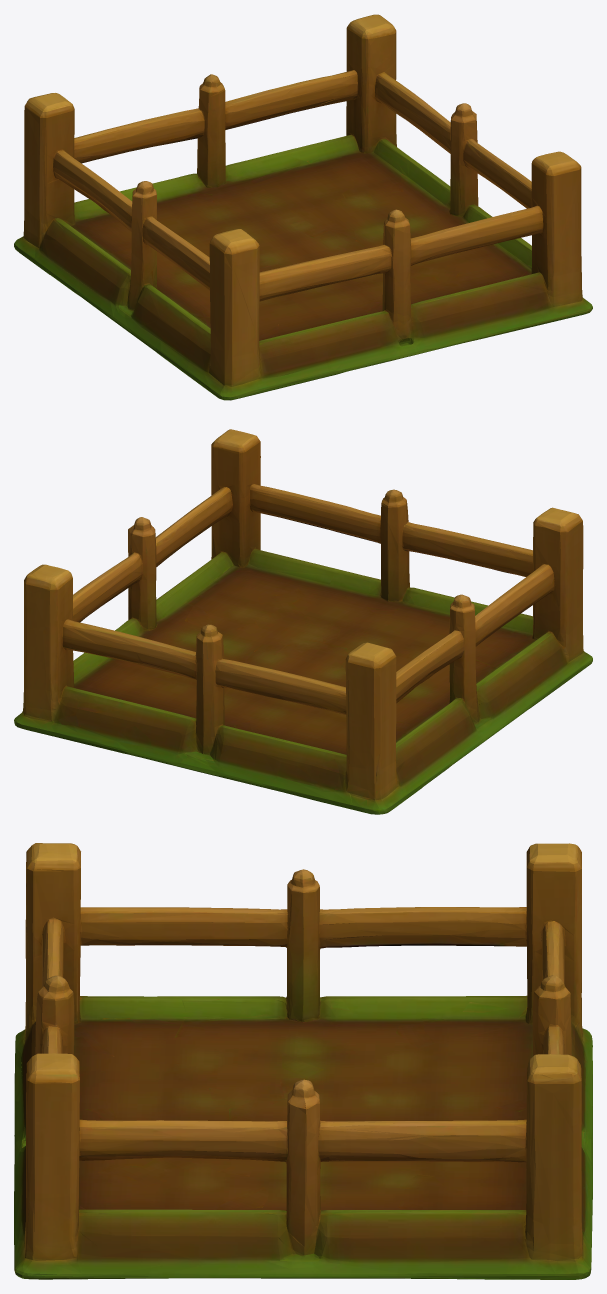
File: empty_farm_land1.glb
The picture shows the model from 3 angles, top to bottom: view 1: azimuth 30°, elevation 25°; view 2: azimuth 150°, elevation 25°; view 3: azimuth 270°, elevation 25°; orthographic projection. The views are drawn at different scales.
Parts seen in each view (by area): view 1: geometry_0; view 2: geometry_0; view 3: geometry_0.
Part boxes in pixels (x1,y1,x2,y2): geometry_0: (14, 14, 592, 400); geometry_0: (14, 429, 592, 814); geometry_0: (14, 843, 592, 1279).
Bounding box in the file's own units: 1 × 0.3905 × 0.9988.
Materials: 1 (1 with a texture image).
